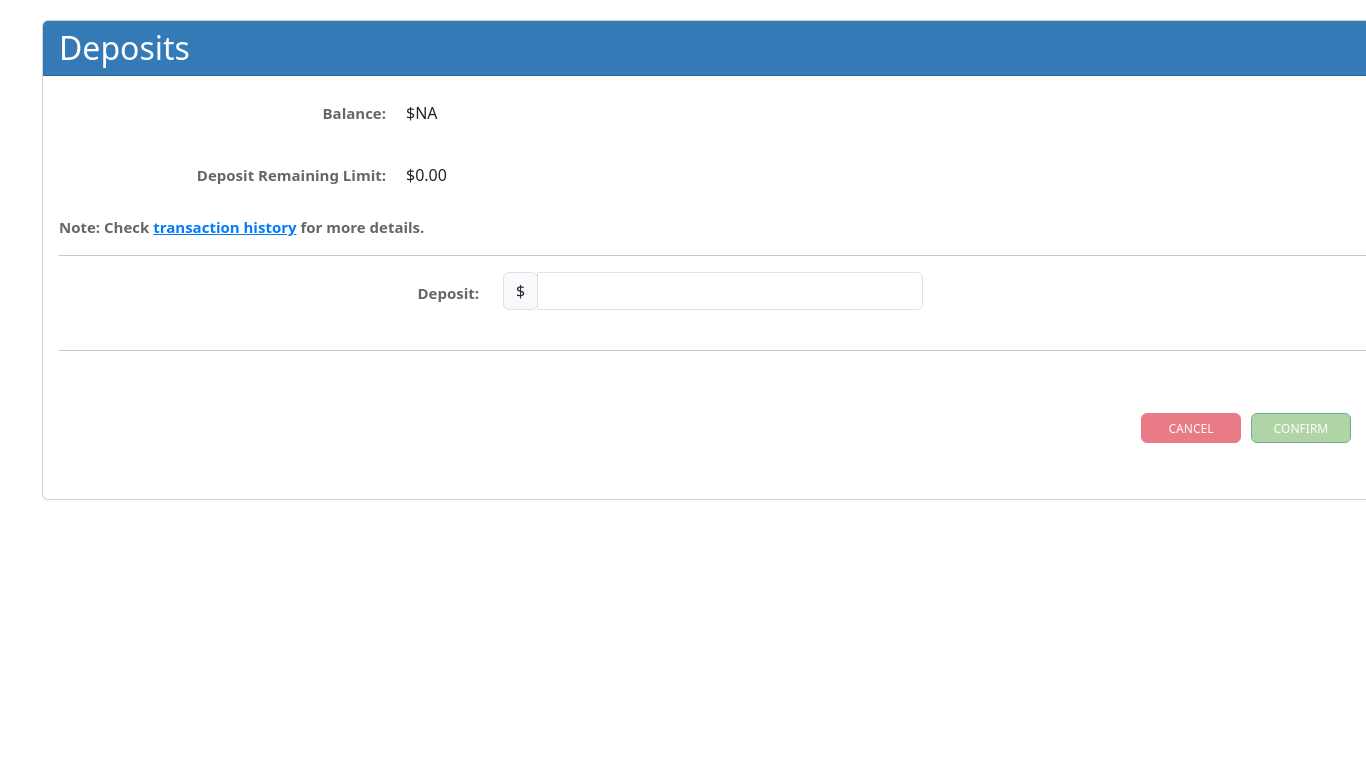
Test: Deposits Component › should show deposit success when user enters valid amount and click confirm
Type "100" into the field labelled "Deposit:" at (730, 291), box [537,272,923,310]
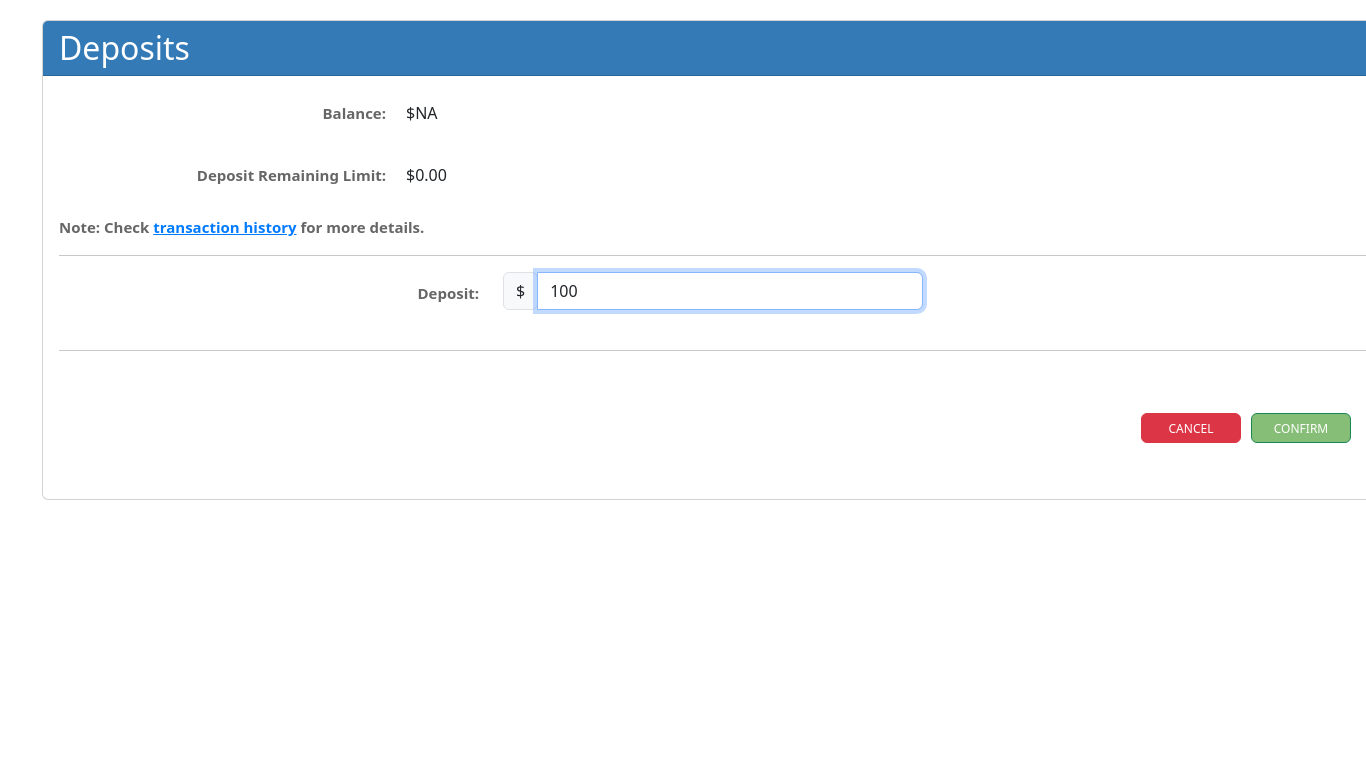
Click the button "Confirm" at (1301, 428), box [1251,413,1351,443]
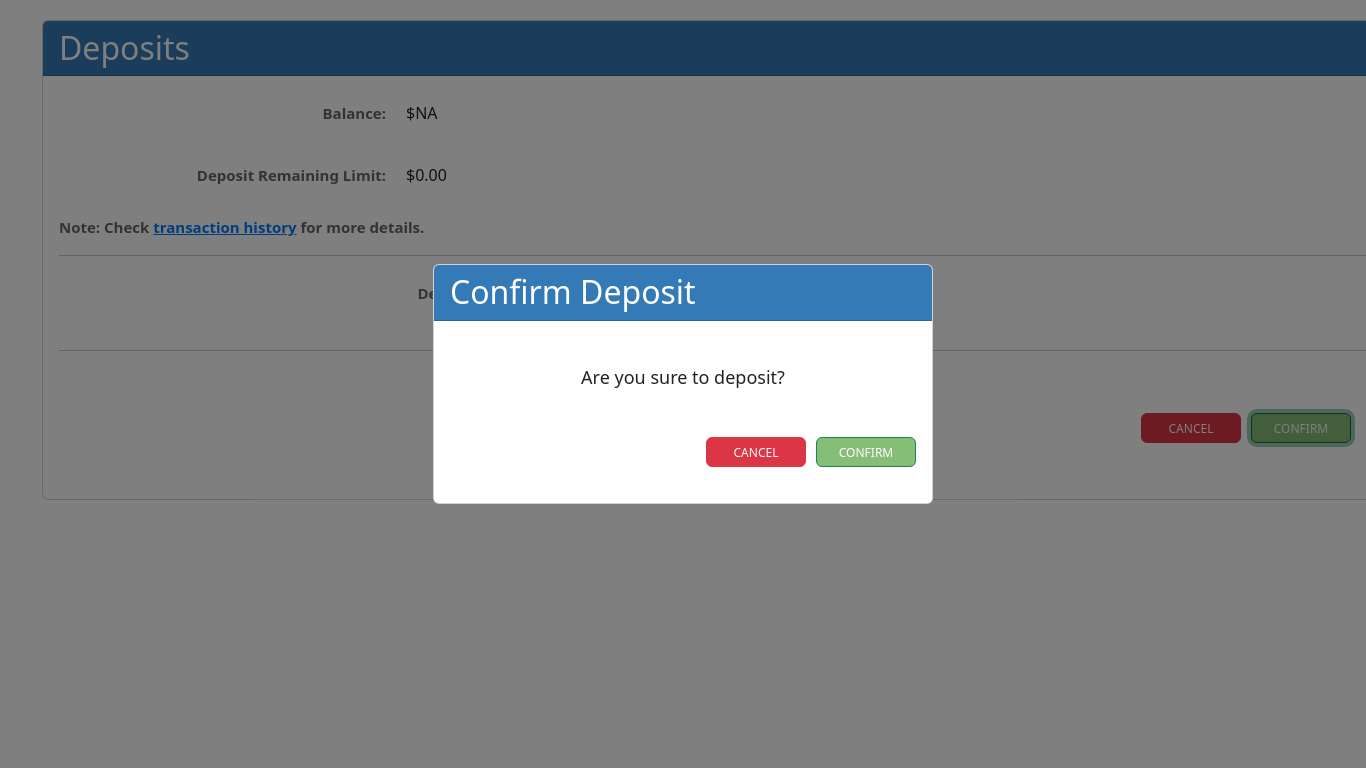
Click the button with test id "dialog-confirm" at (866, 452), box [816,437,916,467]
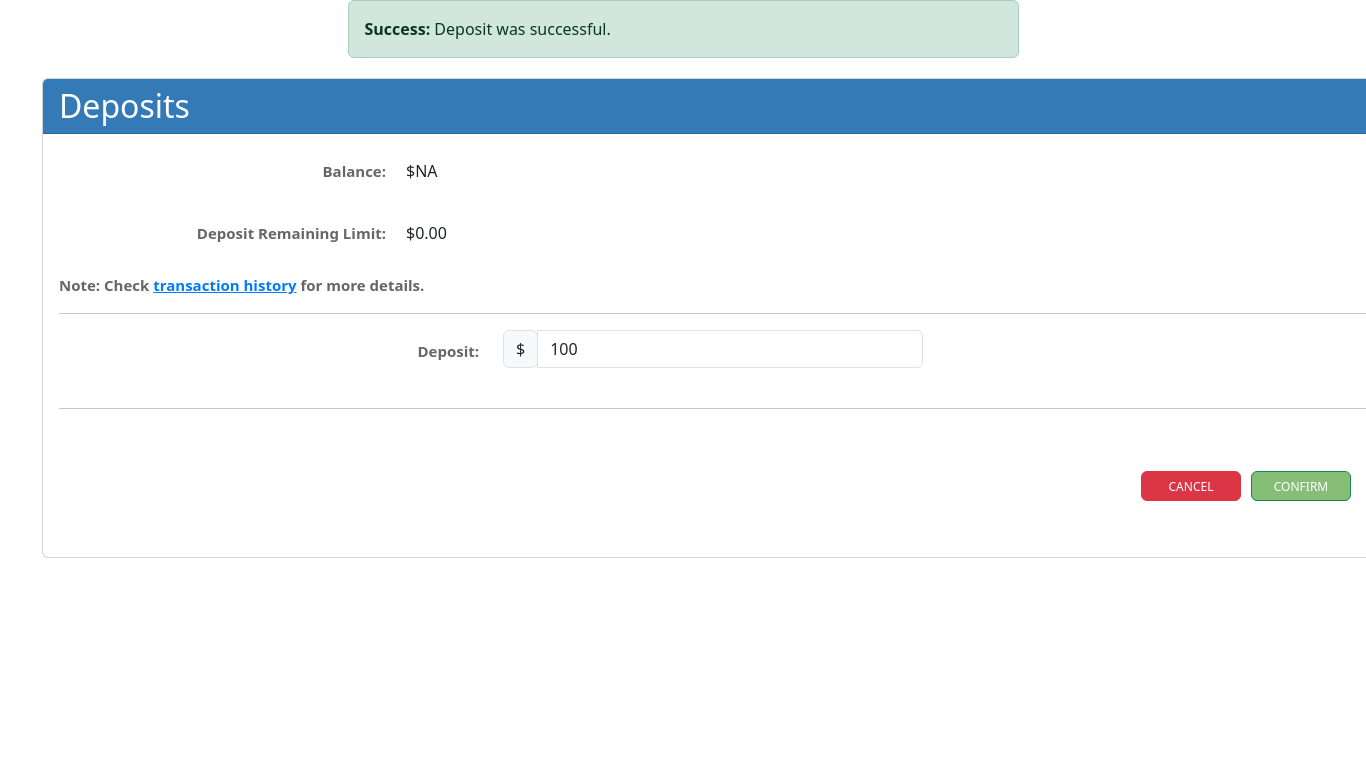
Now the text "Success: Deposit was successful." is shown, box [348,0,1018,58]
